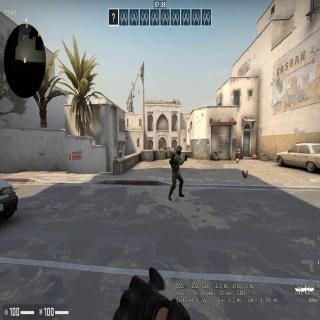CT-Body: (168, 142, 186, 196)
CT-Head: (176, 146, 182, 154)
